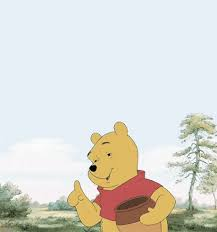Winnie: (79, 122, 161, 208)
